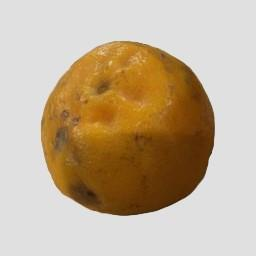Unripe: (43, 39, 215, 212)
